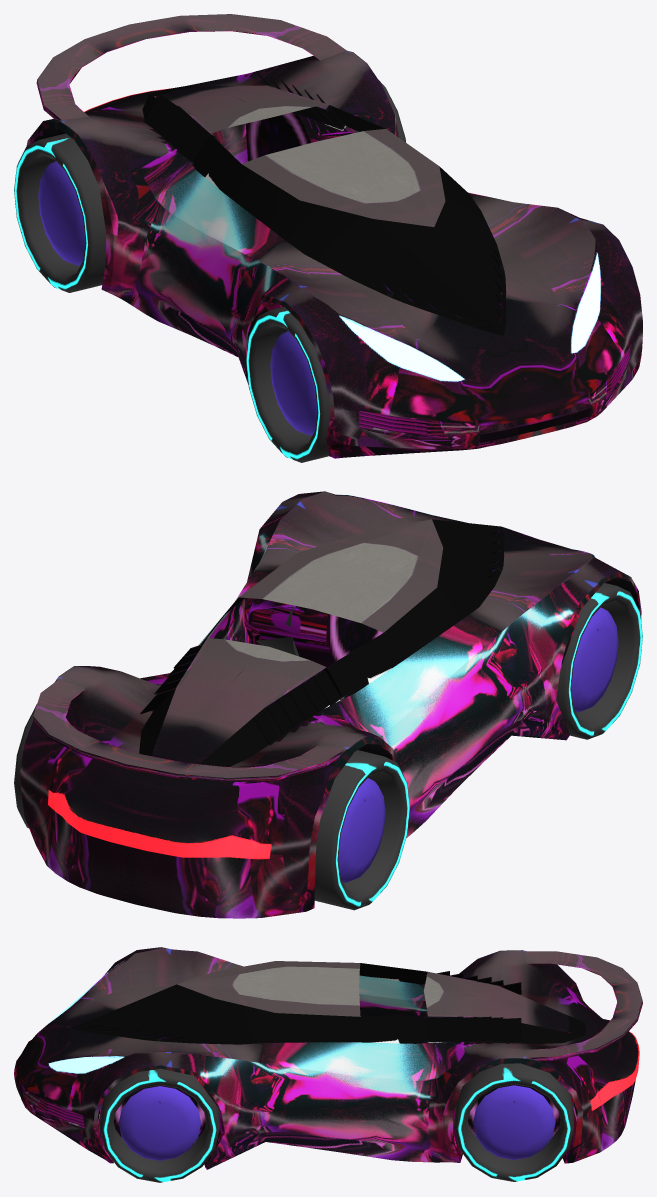
The model's file is CyberCar_WithTyres.fbx.
3 views of the same model, one above another, from view 1: azimuth 30°, elevation 25°; view 2: azimuth 150°, elevation 25°; view 3: azimuth 270°, elevation 25° (orthographic). The views are drawn at different scales.
Visible parts, largest first — view 1: CyberCar, CyberCarWheel-BR, CyberCarWheel-FR; view 2: CyberCar, CyberCarWheel-BR, CyberCarWheel-FR, CyberCarWheel-BL; view 3: CyberCar, CyberCarWheel-BL, CyberCarWheel-FL.
Part boxes in pixels (left/top/right/bottom): CyberCar: left=26, top=14, right=642, bottom=458; CyberCarWheel-BR: left=14, top=133, right=105, bottom=292; CyberCarWheel-FR: left=246, top=306, right=329, bottom=462; CyberCar: left=19, top=491, right=641, bottom=918; CyberCarWheel-BR: left=314, top=750, right=409, bottom=910; CyberCarWheel-FR: left=556, top=583, right=642, bottom=739; CyberCarWheel-BL: left=14, top=704, right=36, bottom=828; CyberCar: left=14, top=947, right=642, bottom=1169; CyberCarWheel-BL: left=454, top=1063, right=573, bottom=1181; CyberCarWheel-FL: left=100, top=1069, right=219, bottom=1182.
Size of the model in its own units: 202 by 110 by 448.
